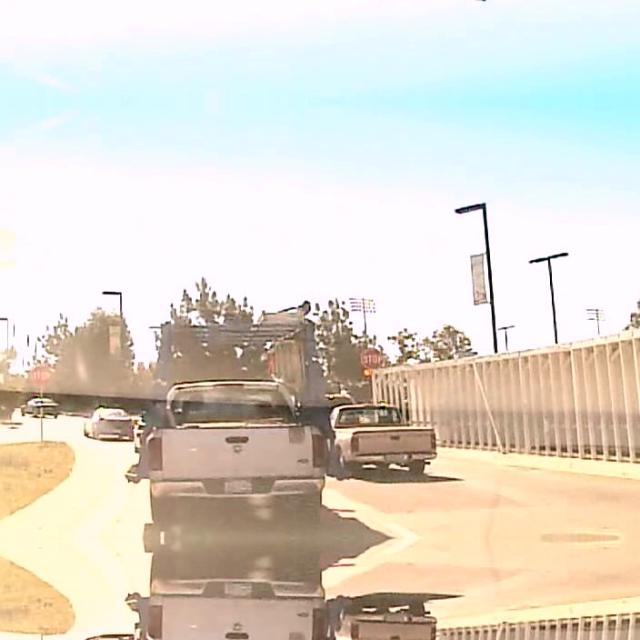stop: (358, 345, 382, 369), (30, 364, 50, 384)
